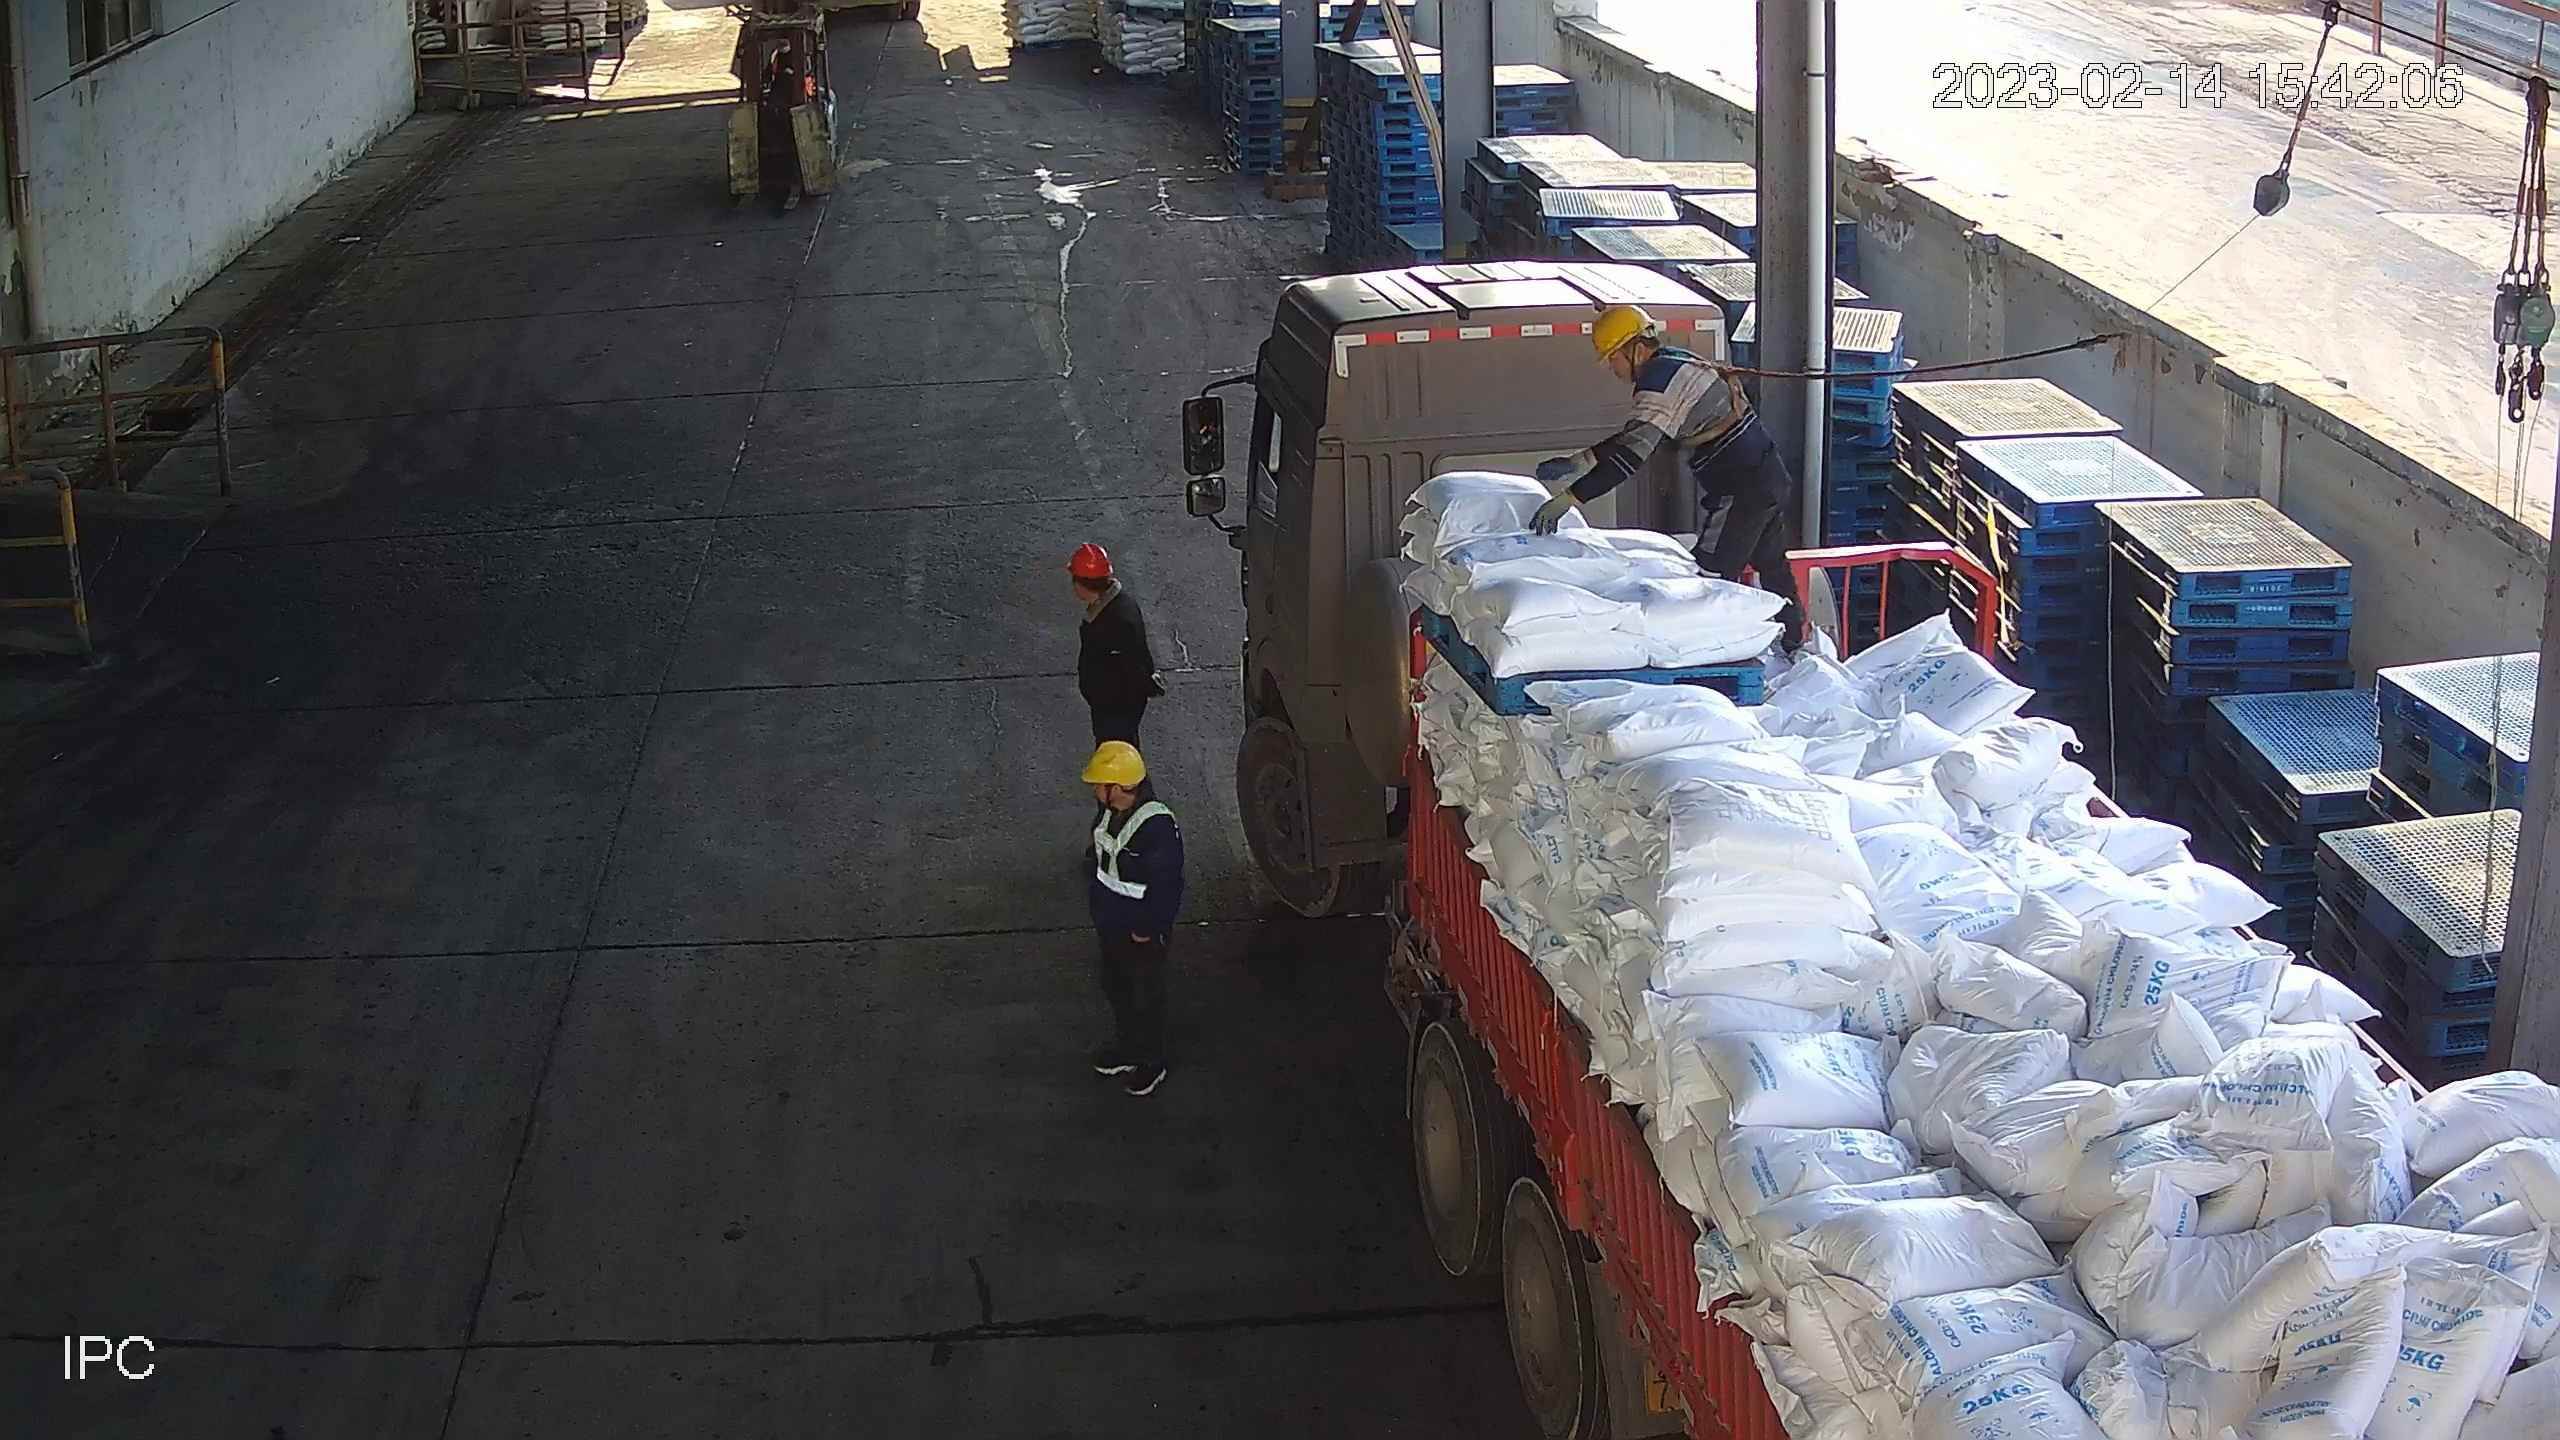belt: (1654, 347, 1757, 448)
head: (1592, 303, 1720, 427), (1080, 740, 1182, 870), (1066, 542, 1148, 643)
helmet: (1591, 304, 1655, 365), (1081, 740, 1148, 787), (1066, 542, 1114, 579)
people: (1528, 302, 1807, 654), (1080, 740, 1183, 1097), (1066, 542, 1168, 751)
truck: (1181, 252, 2560, 1440)
